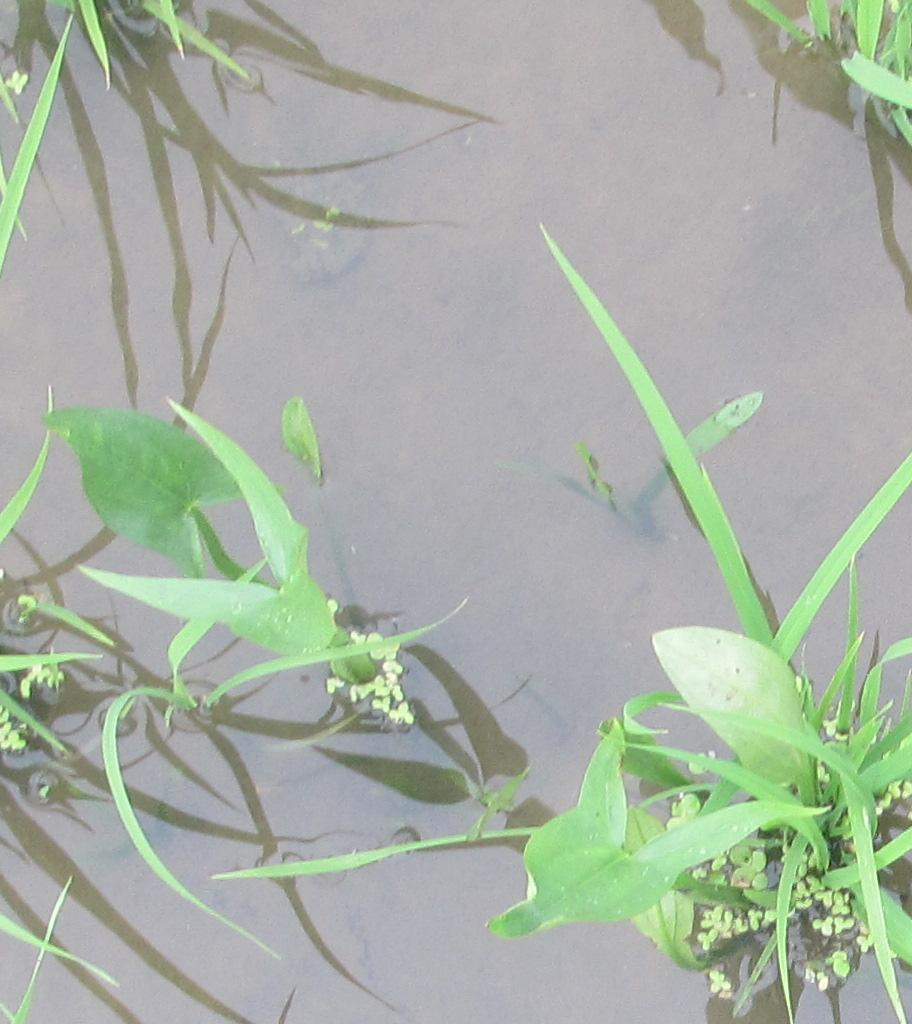Weed: (46, 399, 424, 722), (494, 735, 697, 938), (646, 624, 844, 827)
